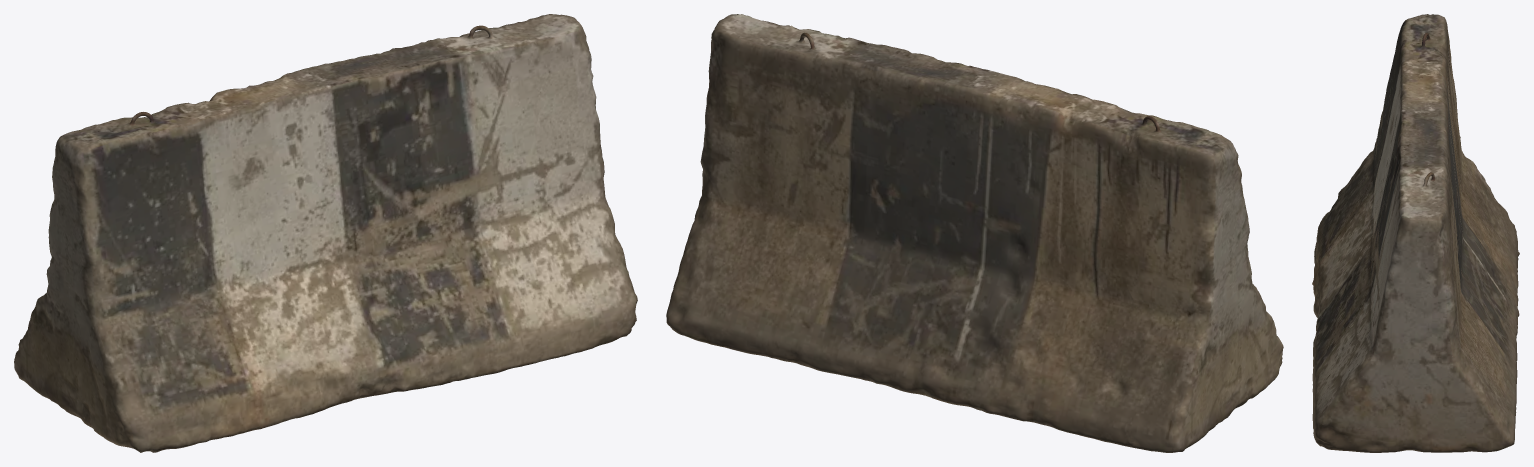
File: concrete_road_barrier.glb
3 renders of one model, left to right at view 1: azimuth 30°, elevation 25°; view 2: azimuth 150°, elevation 25°; view 3: azimuth 270°, elevation 25°, orthographic. The views are drawn at different scales.
Parts seen in each view (by area): view 1: concrete_road_barrier; view 2: concrete_road_barrier; view 3: concrete_road_barrier.
Part boxes in pixels (left/top/right/bottom): concrete_road_barrier: left=14, top=14, right=637, bottom=452; concrete_road_barrier: left=666, top=14, right=1283, bottom=452; concrete_road_barrier: left=1312, top=14, right=1519, bottom=452.
Size of the model in its own units: 1.55 by 0.8311 by 0.6388.
Materials: 1 (1 with a texture image).
